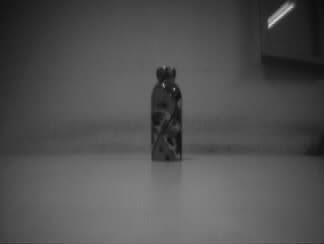Bottle: (150, 66, 182, 161)
